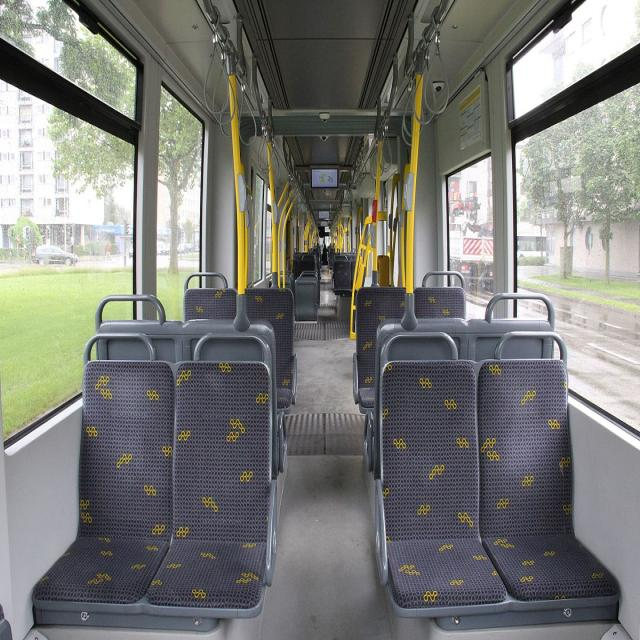empty-seat-frontal: (472, 330, 622, 621), (31, 332, 176, 630), (371, 329, 506, 619), (144, 332, 277, 620)
